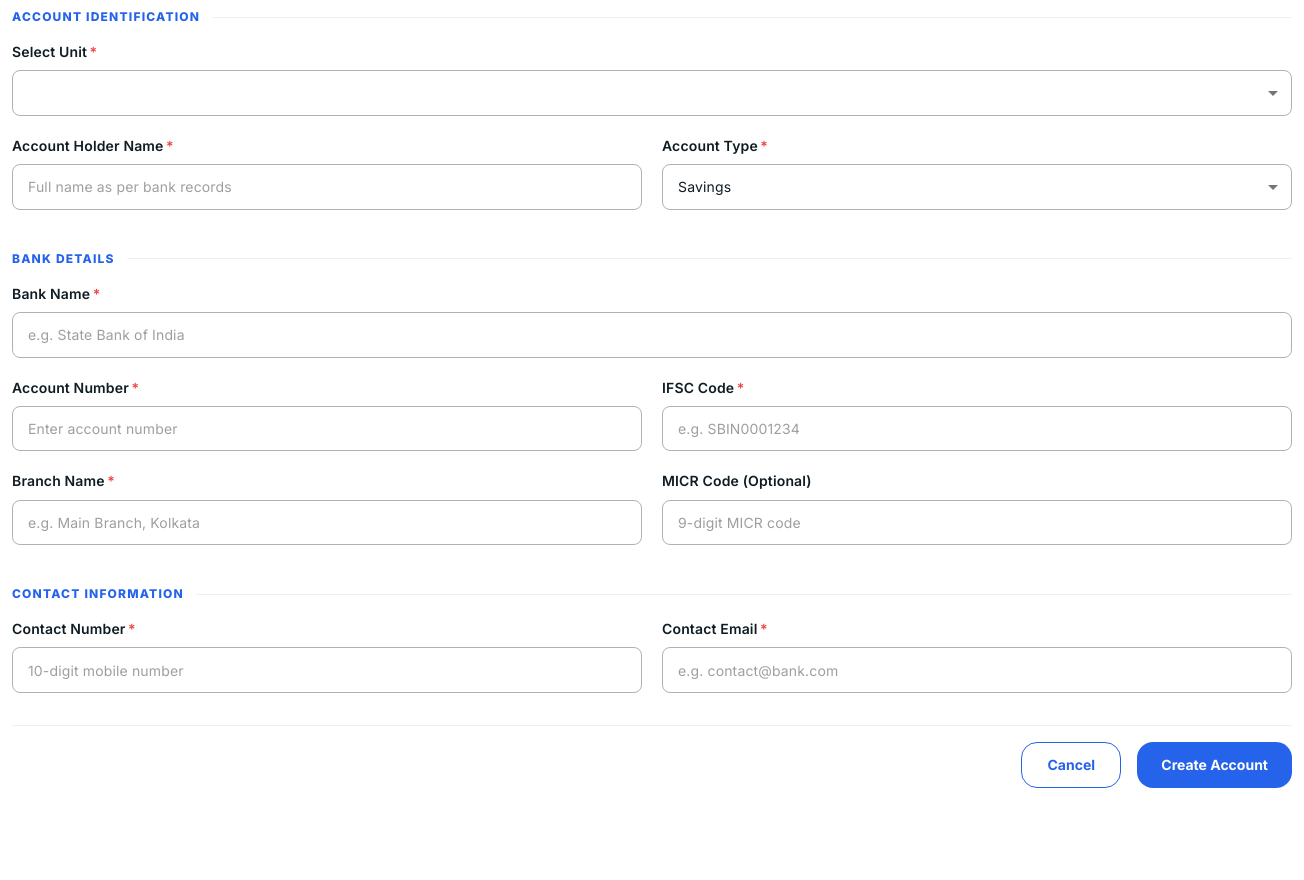
Test: BankForm › shows validation errors for required fields
Step 1. Click the button "Create Account" → (1215, 765), box [1137,742,1292,788]
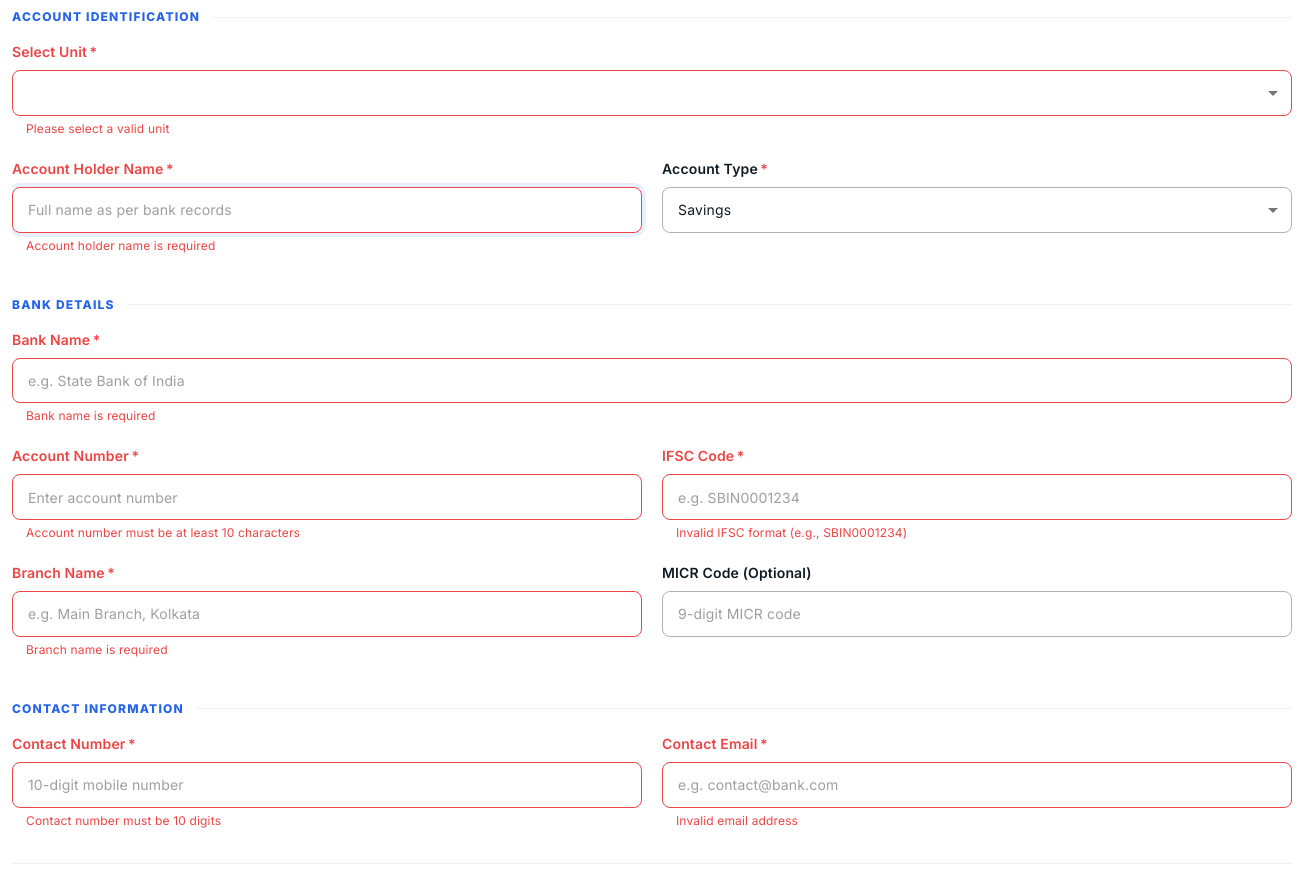
Expected: the text "Please select a valid unit" is shown, [26,121,170,136]
Expected: the text "Bank name is required" is shown, [26,408,156,423]
Expected: the text "Account number must be at least 10 characters" is shown, [26,525,300,540]
